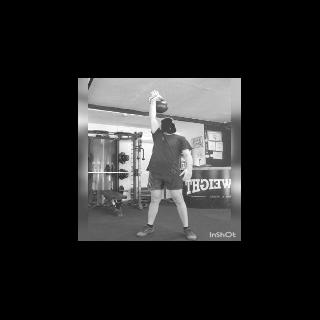kettlebell: (146, 94, 172, 114)
